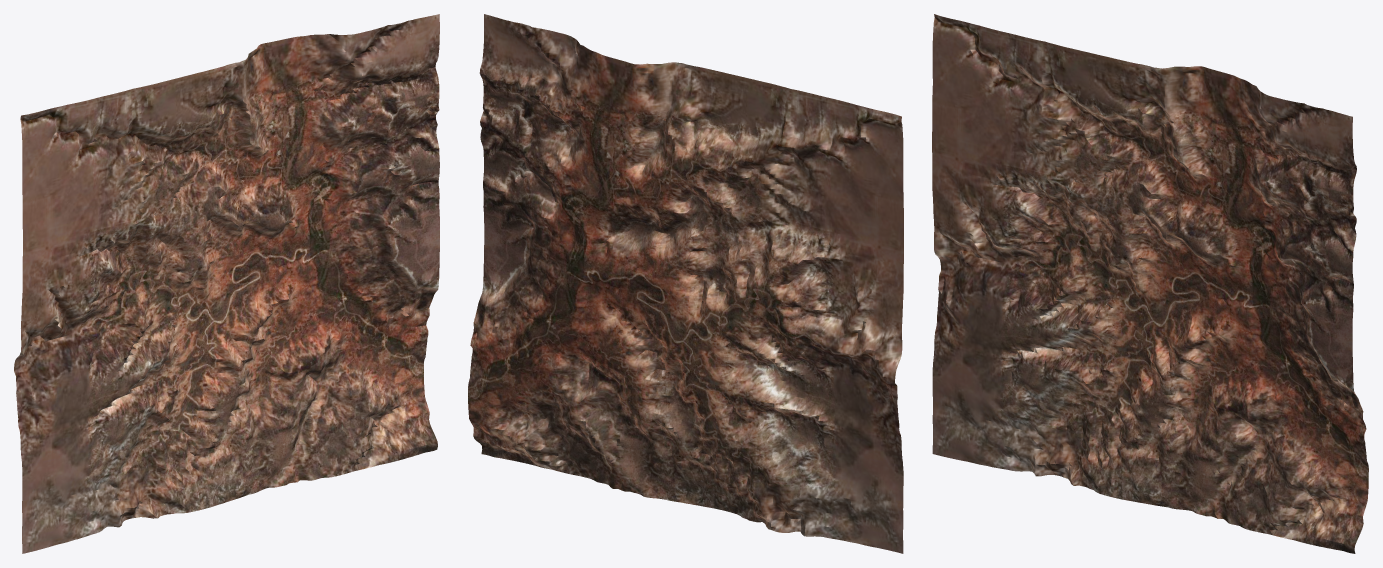
File: terrain.obj
3 renders of one model, left to right at view 1: azimuth 30°, elevation 25°; view 2: azimuth 150°, elevation 25°; view 3: azimuth 330°, elevation 25°, orthographic.
Visible parts, largest first — view 1: object; view 2: object; view 3: object.
Part boxes in pixels (box(x1,y1,x2,y2)): object: box(14, 14, 439, 553); object: box(468, 14, 903, 553); object: box(932, 14, 1368, 553).
Size of the model in its own units: 2 by 2 by 0.1416.
